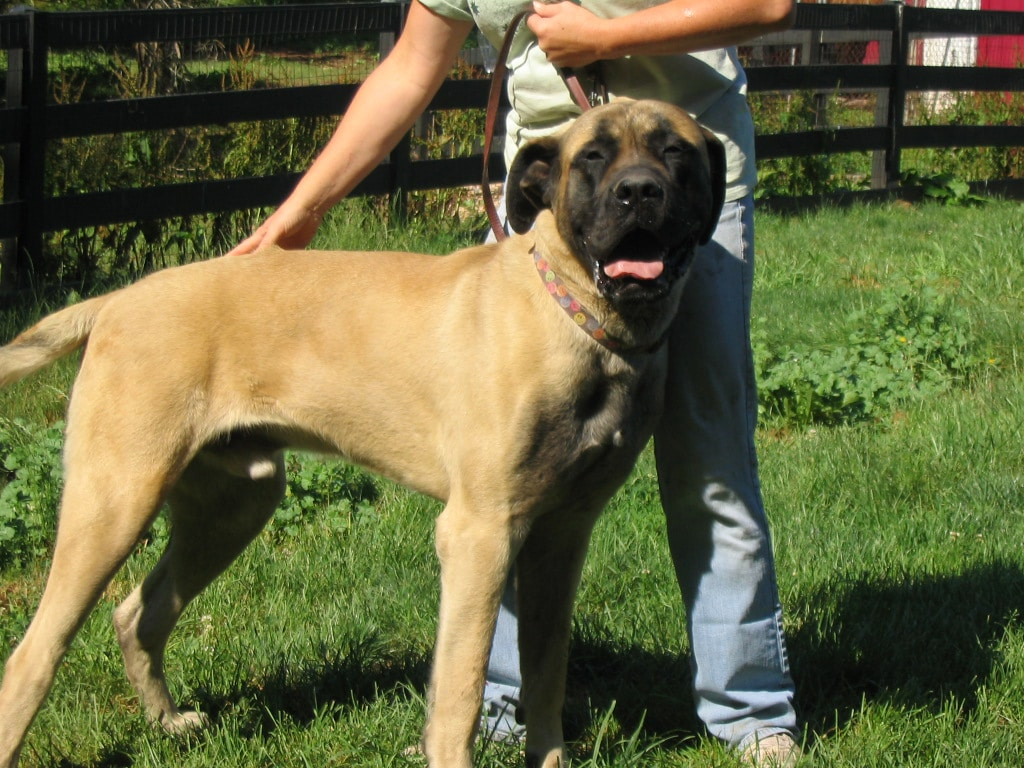mastiff: (0, 98, 726, 768)
person: (222, 0, 811, 768)
